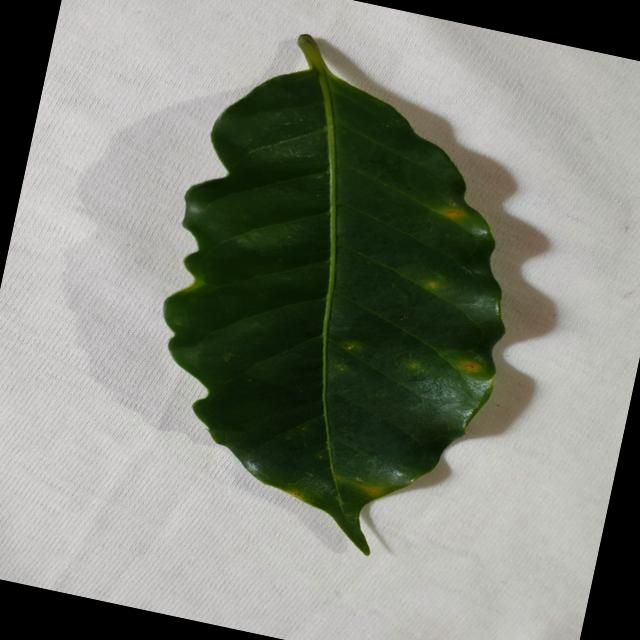KaratDaunKopi: (458, 360, 482, 373), (420, 279, 441, 291), (444, 209, 462, 218)
